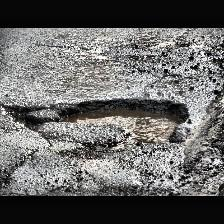pothole: (55, 98, 192, 150), (2, 104, 50, 132)
